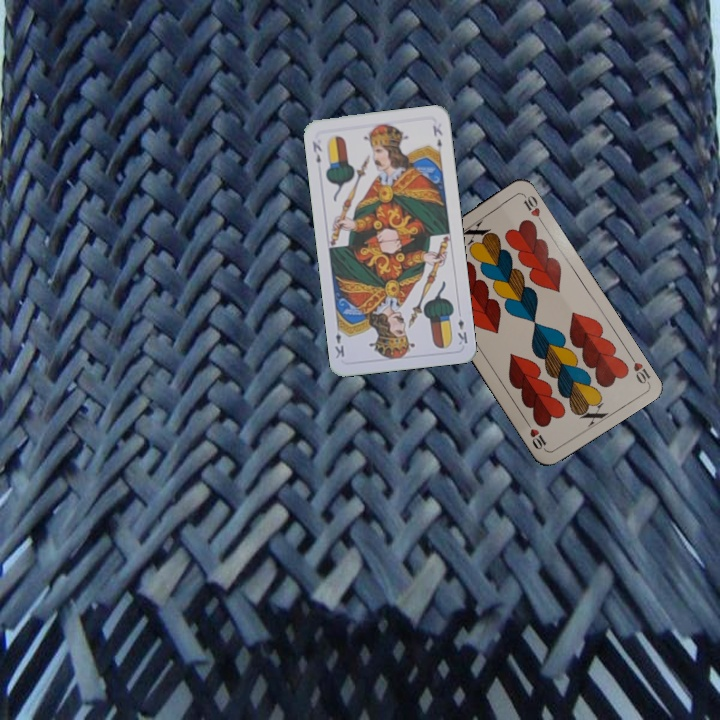EK: (454, 315, 470, 347), (308, 137, 325, 166)
H10: (624, 349, 653, 387)
